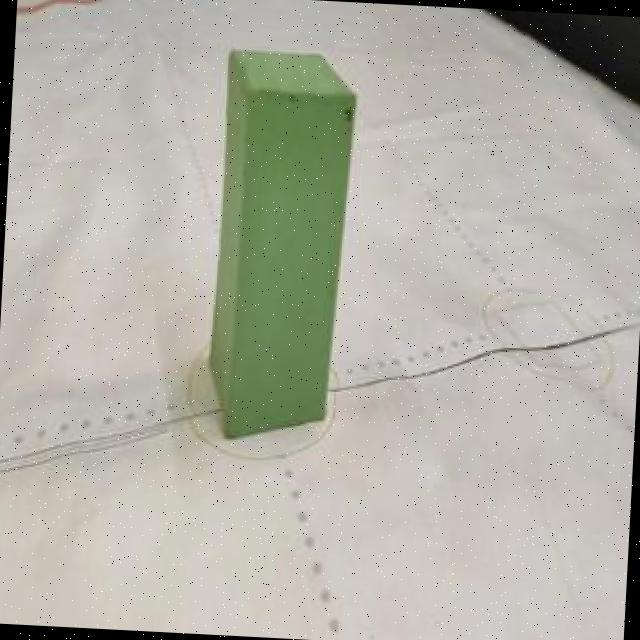greenbox: (204, 47, 358, 445)
